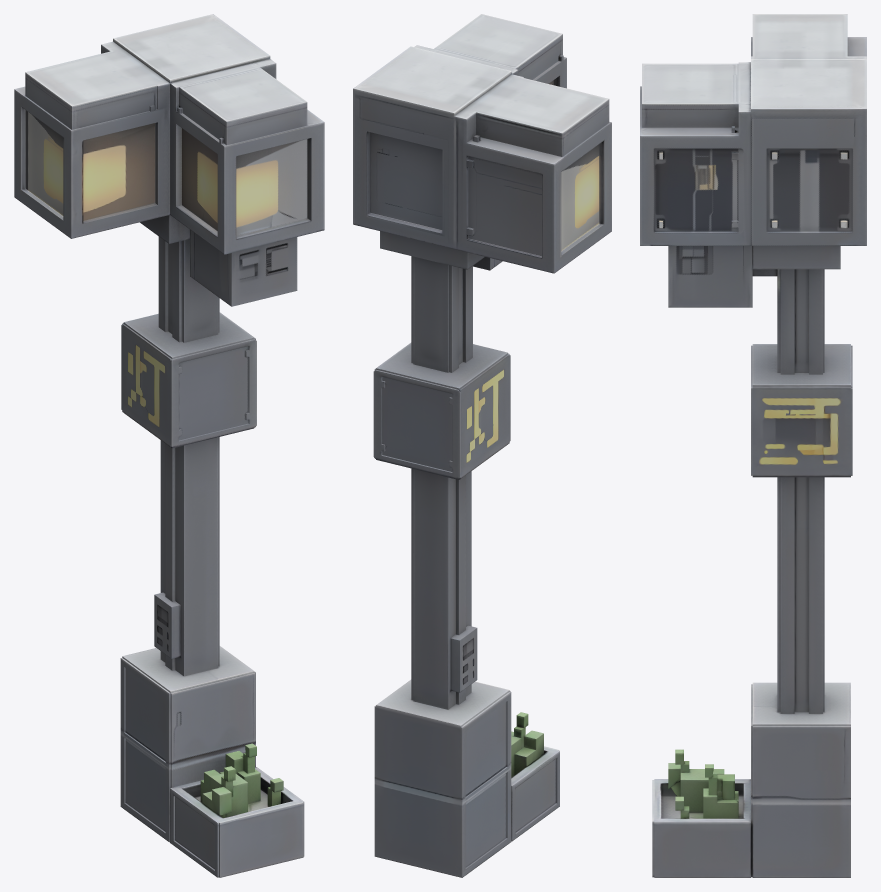
File: farol.obj
3 renders of one model, left to right at view 1: azimuth 30°, elevation 25°; view 2: azimuth 150°, elevation 25°; view 3: azimuth 270°, elevation 25°, orthographic.
Visible parts, largest first — view 1: model; view 2: model; view 3: model.
Part boxes in pixels (x1,y1,x2,y2): model: [14, 14, 324, 877]; model: [353, 14, 611, 877]; model: [640, 14, 866, 877].
Bounding box in the file's own units: 0.5199 × 1.9 × 0.5042.
1 material, 1 textured.
